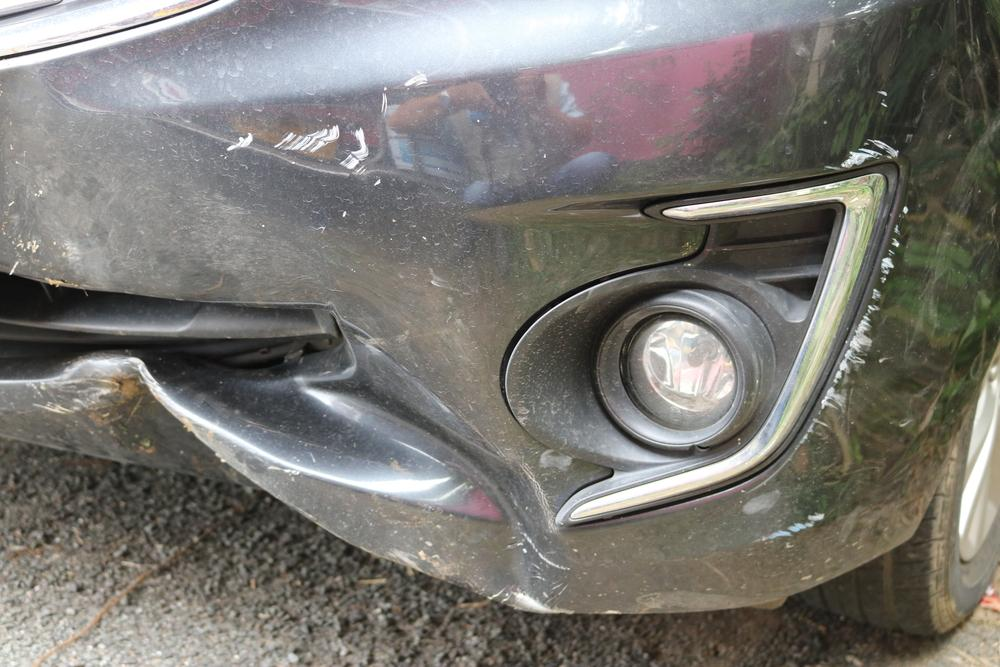dent: (138, 312, 556, 601)
scratch: (806, 135, 917, 453), (224, 73, 429, 183)
